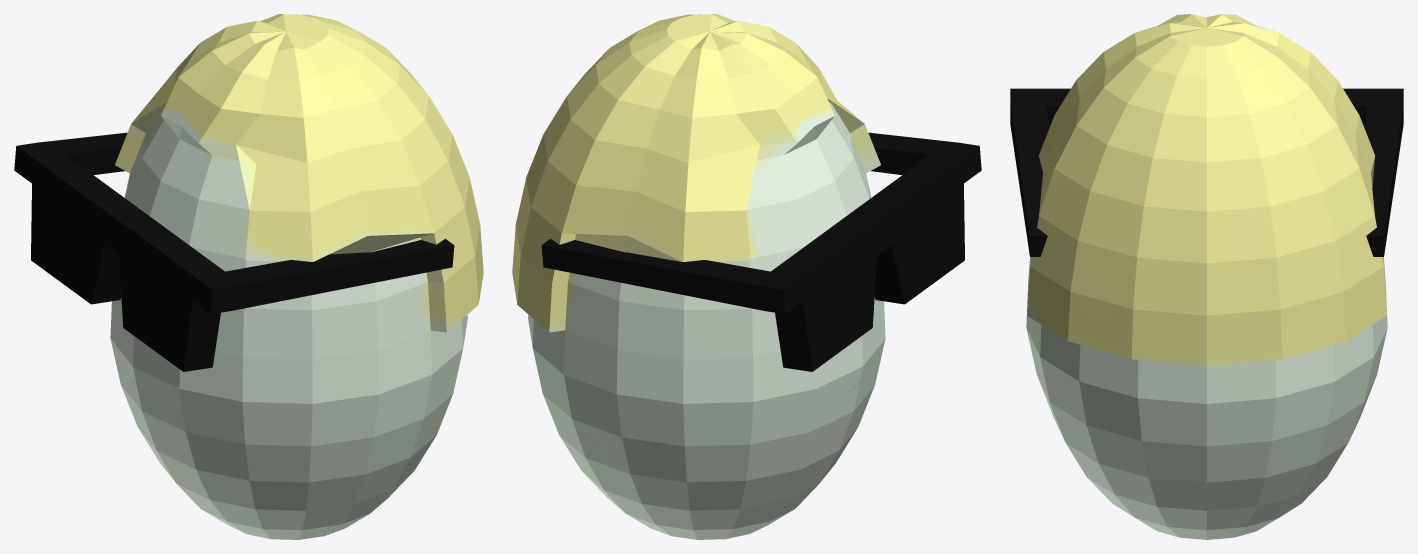
The model's file is Egg.obj.
The picture shows the model from 3 angles, left to right: view 1: azimuth 30°, elevation 25°; view 2: azimuth 150°, elevation 25°; view 3: azimuth 270°, elevation 25°; orthographic projection.
Visible parts, largest first — view 1: Egg_Sphere, Sunglasses_Cube.001; view 2: Egg_Sphere, Sunglasses_Cube.001; view 3: Egg_Sphere, Sunglasses_Cube.001.
Part boxes in pixels (<box>): Egg_Sphere: <box>110,14,483,539</box>; Sunglasses_Cube.001: <box>14,132,454,371</box>; Egg_Sphere: <box>512,14,885,539</box>; Sunglasses_Cube.001: <box>541,132,981,371</box>; Egg_Sphere: <box>1026,14,1387,539</box>; Sunglasses_Cube.001: <box>1010,88,1403,256</box>.
Size of the model in its own units: 2.28 by 3.08 by 2.2.
Materials: 2 (1 with a texture image).
